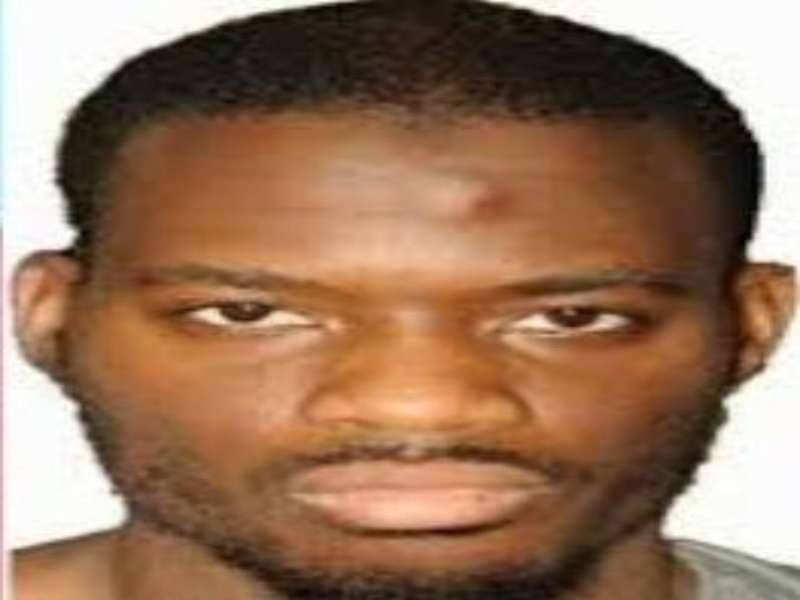TsisyArotava: (4, 10, 796, 600)
